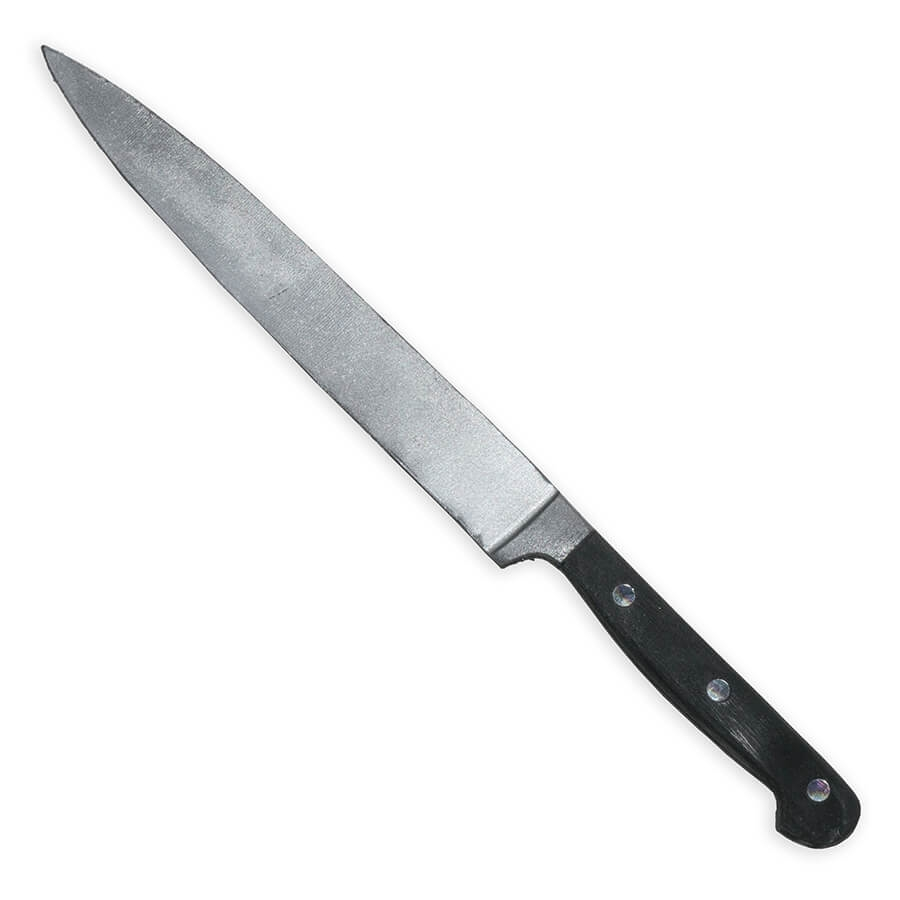knife: (22, 30, 868, 855)
